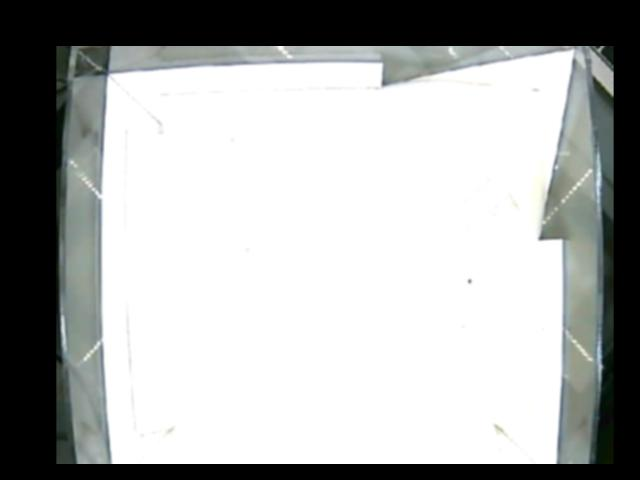Bottle: (393, 167, 521, 278)
